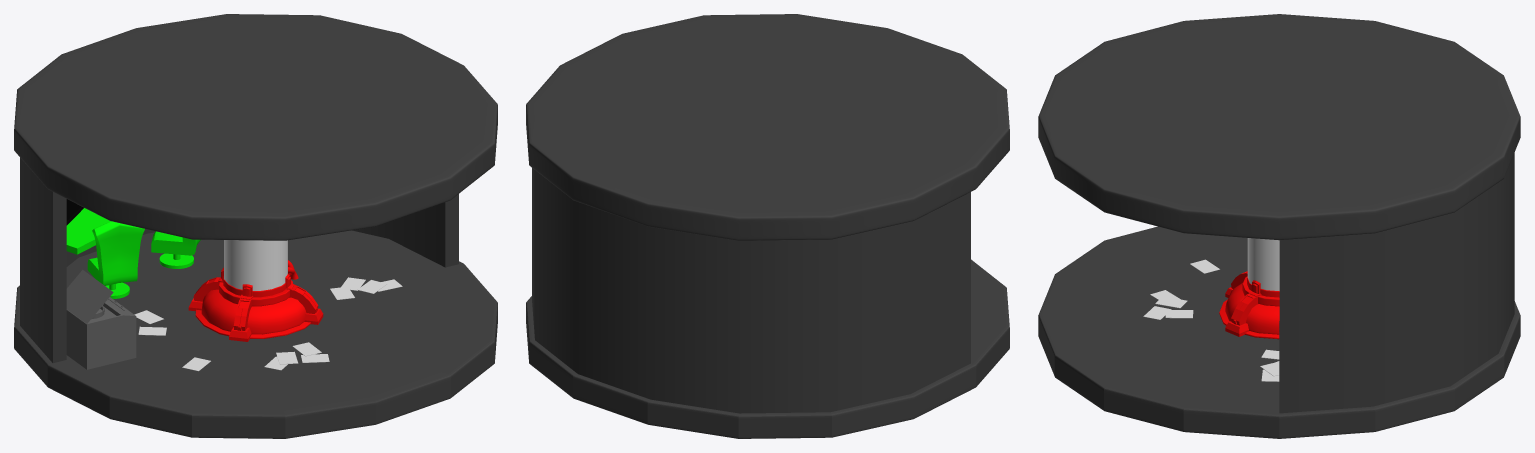
File: Lab.fbx
3 views of the same model, side by side, from view 1: azimuth 30°, elevation 25°; view 2: azimuth 150°, elevation 25°; view 3: azimuth 270°, elevation 25° (orthographic).
Parts seen in each view (by area): view 1: Floor, WallBack, Chair&Desk, Machine, CenterCylinder, CenterCylinderGlass, Paper, CylinderParts, CenterCylinderBase; view 2: Floor, WallBack; view 3: Floor, WallBack, CenterCylinder, Paper, CenterCylinderGlass, CylinderParts.
Part boxes in pixels (<box>): Floor: <box>14,14,497,438</box>; WallBack: <box>20,157,458,363</box>; Chair&Desk: <box>66,208,200,298</box>; Machine: <box>66,270,136,369</box>; CenterCylinder: <box>201,276,306,334</box>; CenterCylinderGlass: <box>224,240,287,290</box>; Paper: <box>134,277,402,371</box>; CylinderParts: <box>188,267,323,341</box>; CenterCylinderBase: <box>195,309,310,338</box>; Floor: <box>526,14,1009,438</box>; WallBack: <box>532,168,970,413</box>; Floor: <box>1038,14,1520,438</box>; WallBack: <box>1279,153,1514,413</box>; CenterCylinder: <box>1225,276,1279,334</box>; Paper: <box>1143,259,1279,381</box>; CenterCylinderGlass: <box>1247,238,1279,290</box>; CylinderParts: <box>1225,271,1261,336</box>.
Size of the model in its own units: 2200 by 1120 by 2200.
